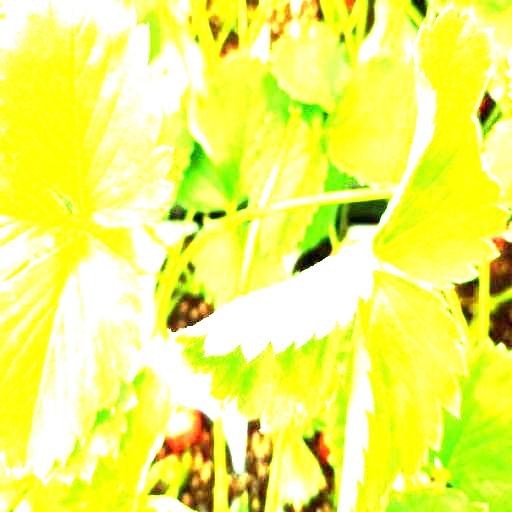Powdery Mildew Leaf: (165, 240, 381, 434)
